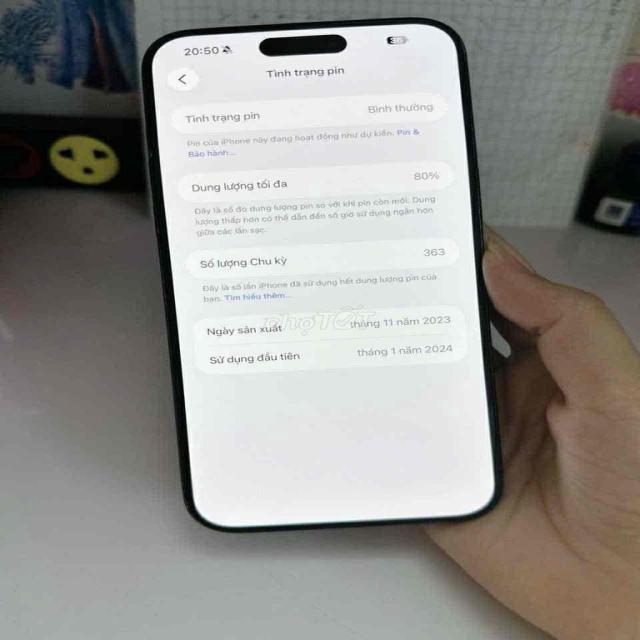gen_15: (133, 14, 511, 541)
